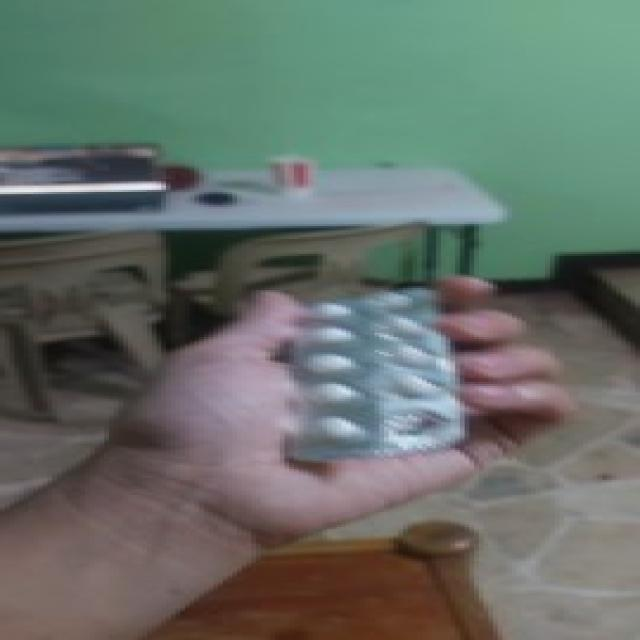Cacat: (283, 284, 462, 459)
Kemasan: (380, 406, 458, 443)
